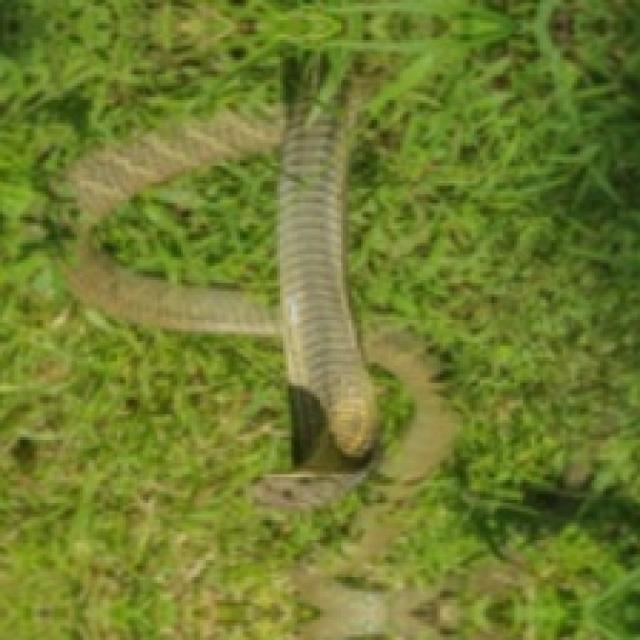king cobra: (51, 6, 389, 477), (63, 51, 380, 463), (89, 140, 280, 317), (91, 143, 280, 309), (363, 329, 454, 477)
